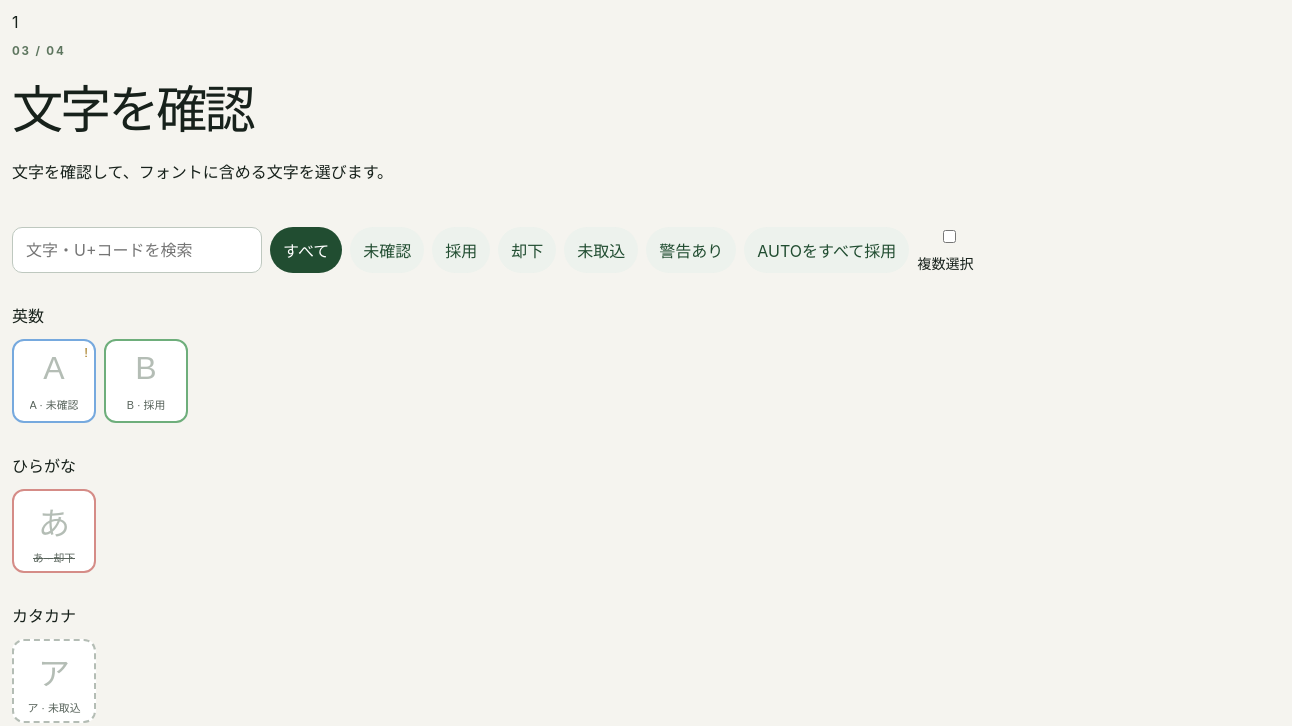
reconciles partial review errors with the server and clears selection with Escape
Click the checkbox labelled "複数選択": (949, 236) x1=921 y1=230 x2=978 y2=243
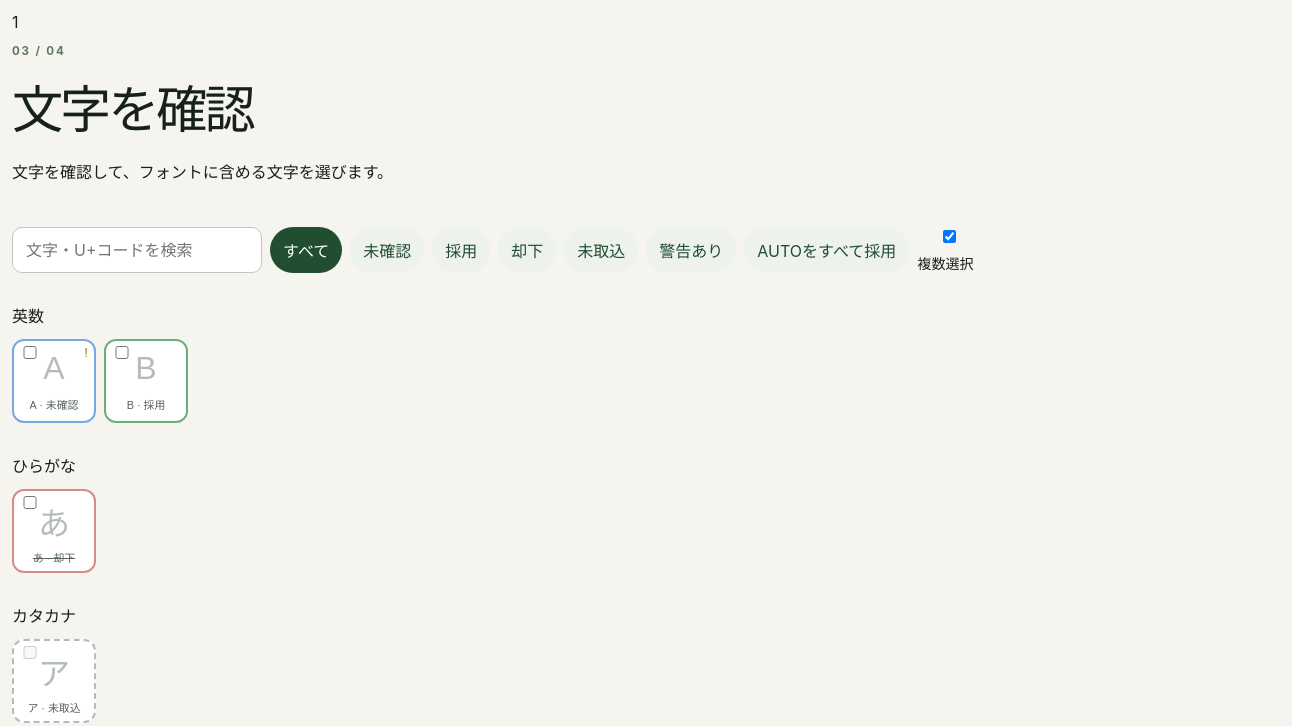
Click the checkbox named "A を選択": (30, 352) x1=20 y1=346 x2=40 y2=359
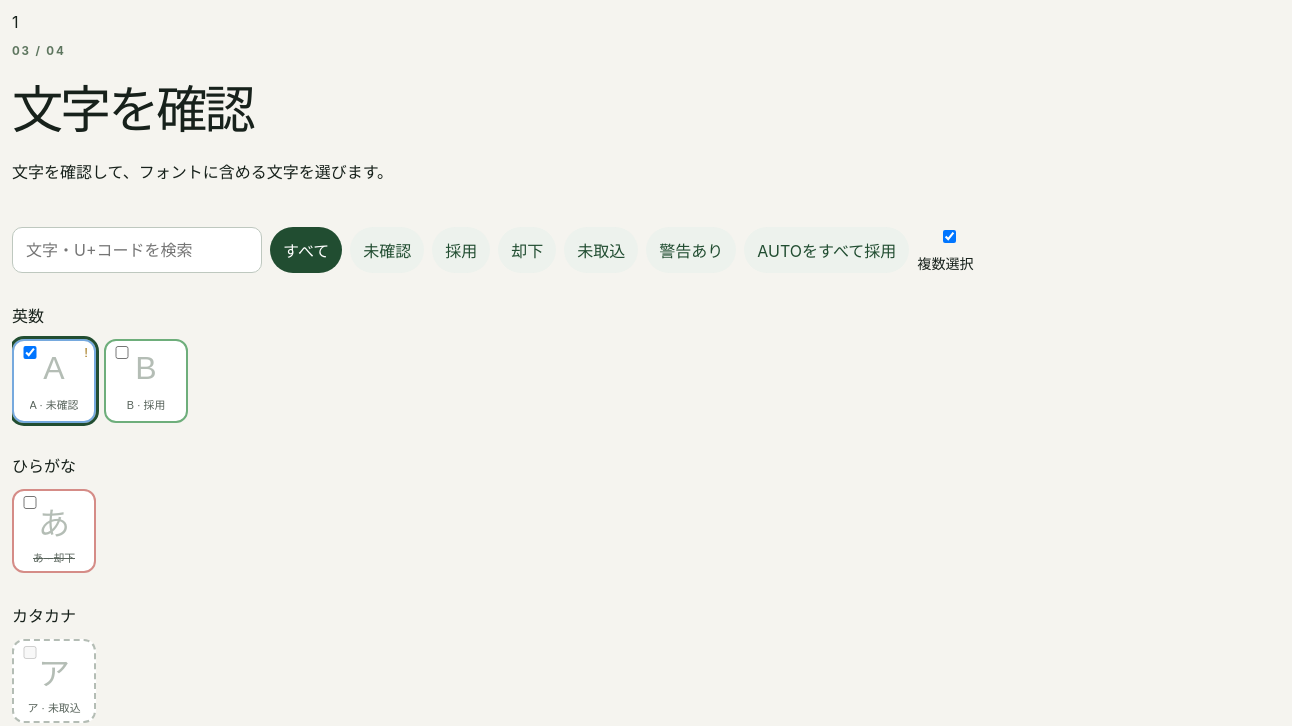
Press Escape in the button with aria-label "A 未確認", box x1=12 y1=339 x2=96 y2=423
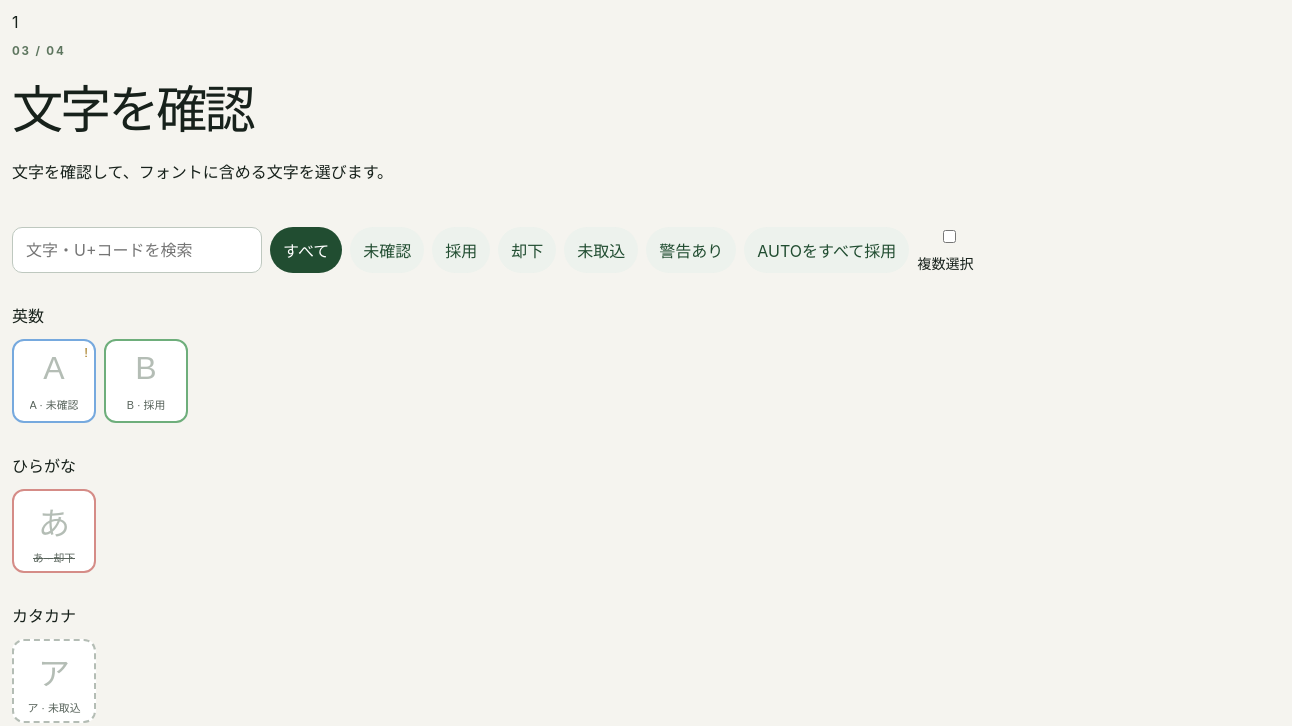
Press a in the button with aria-label "A 未確認", box x1=12 y1=339 x2=96 y2=423
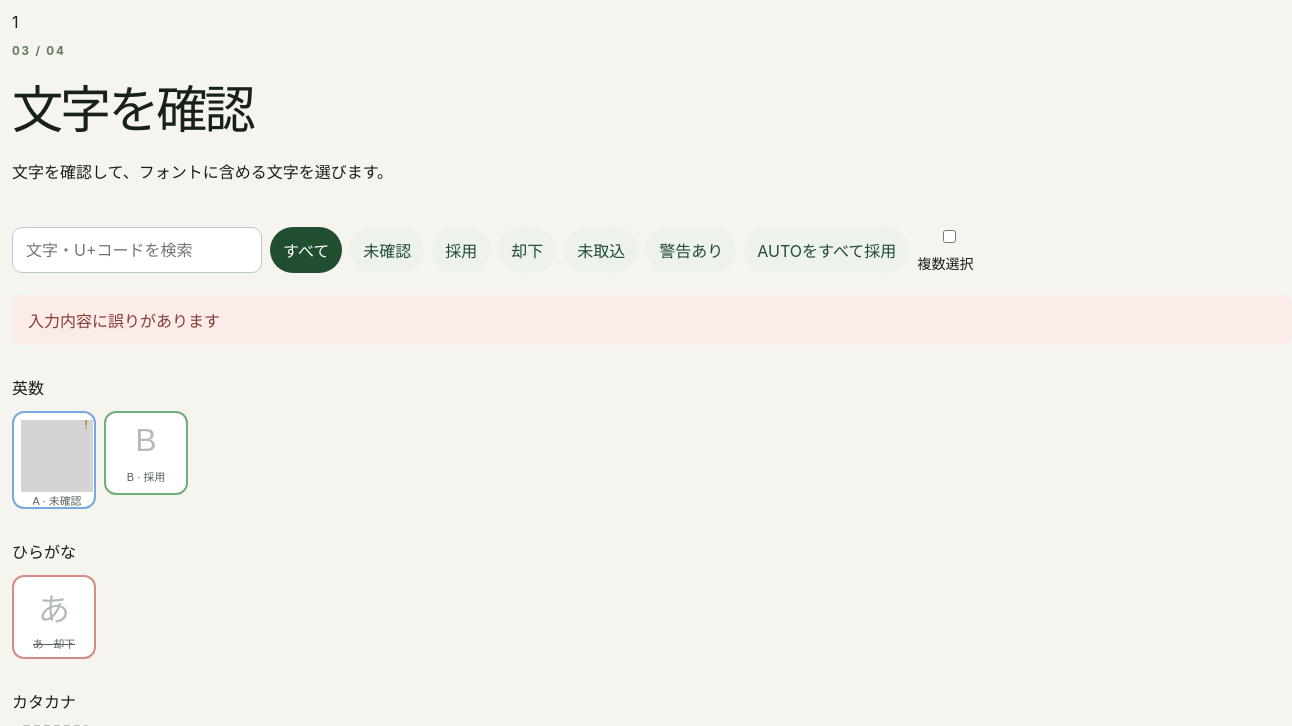
Expected: the message "入力内容に誤りがあります" is shown, x1=12 y1=295 x2=1291 y2=345
